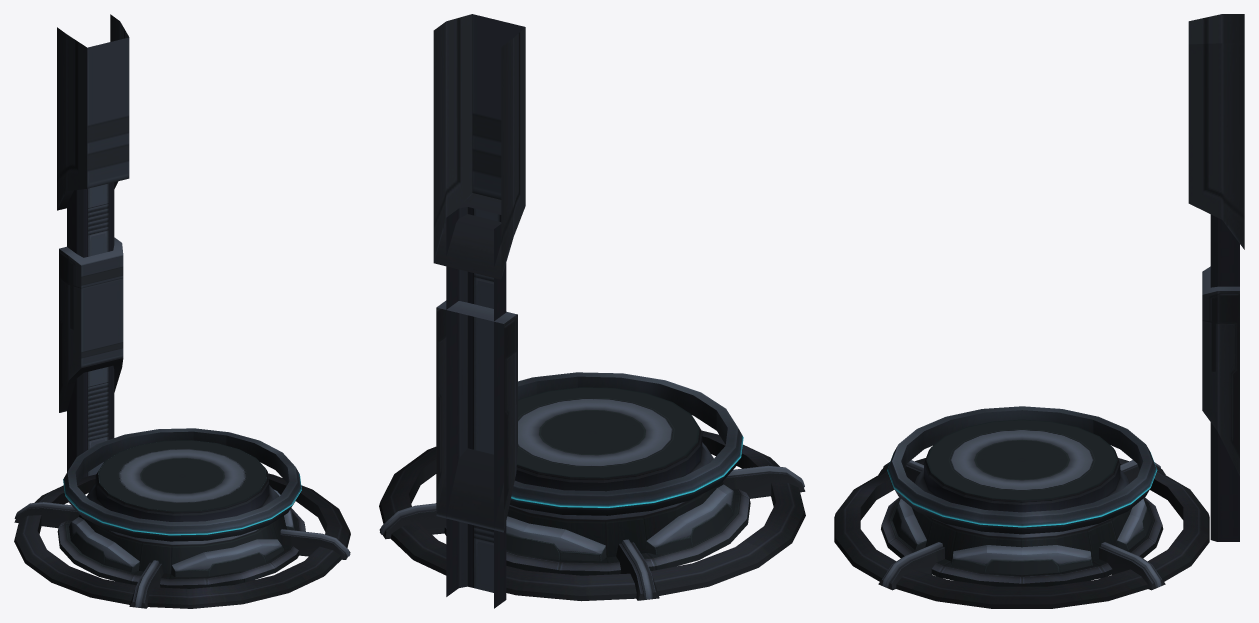
The model's file is ts_xhmj_tz001.FBX.
3 views of the same model, side by side, from view 1: azimuth 30°, elevation 25°; view 2: azimuth 150°, elevation 25°; view 3: azimuth 270°, elevation 25° (orthographic). The views are drawn at different scales.
Parts seen in each view (by area): view 1: ts_xhmj_tz001; view 2: ts_xhmj_tz001; view 3: ts_xhmj_tz001.
Boxes of the visible parts, x1=… form: ts_xhmj_tz001: x1=14, y1=14, x2=350, y2=608; ts_xhmj_tz001: x1=379, y1=14, x2=805, y2=608; ts_xhmj_tz001: x1=834, y1=14, x2=1244, y2=608.
Size of the model in its own units: 3.19 by 4.72 by 3.48.
